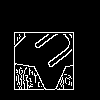U: (25, 20, 81, 77)
